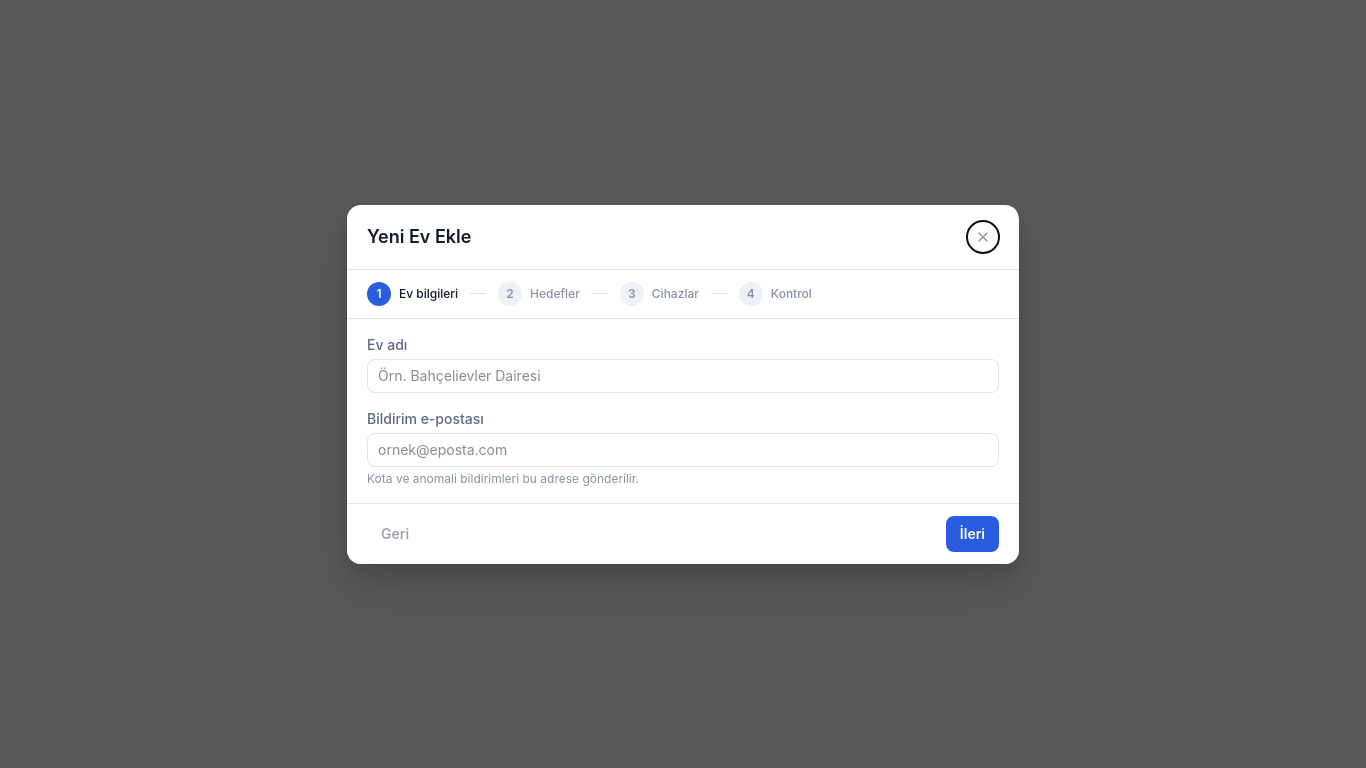
Test: AddHomeWizard › blocks advancing from step 1 until required fields are filled
Click the button "İleri". click: {"x": 972, "y": 534}
box: [946,516,999,552]
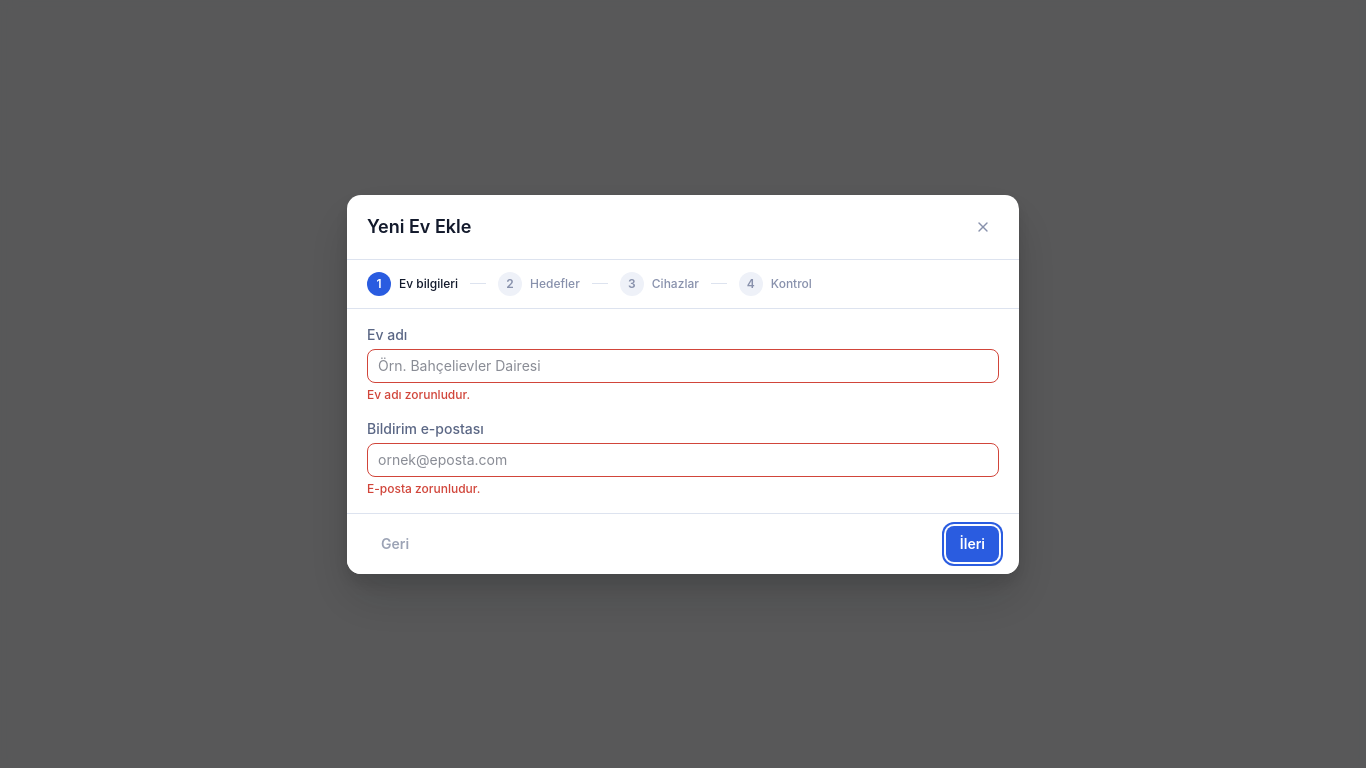
Expected: the field labelled "Ev adı" is shown, [367,348,999,382]
Now the text "Ev adı zorunludur." is shown, box [367,386,470,402]
